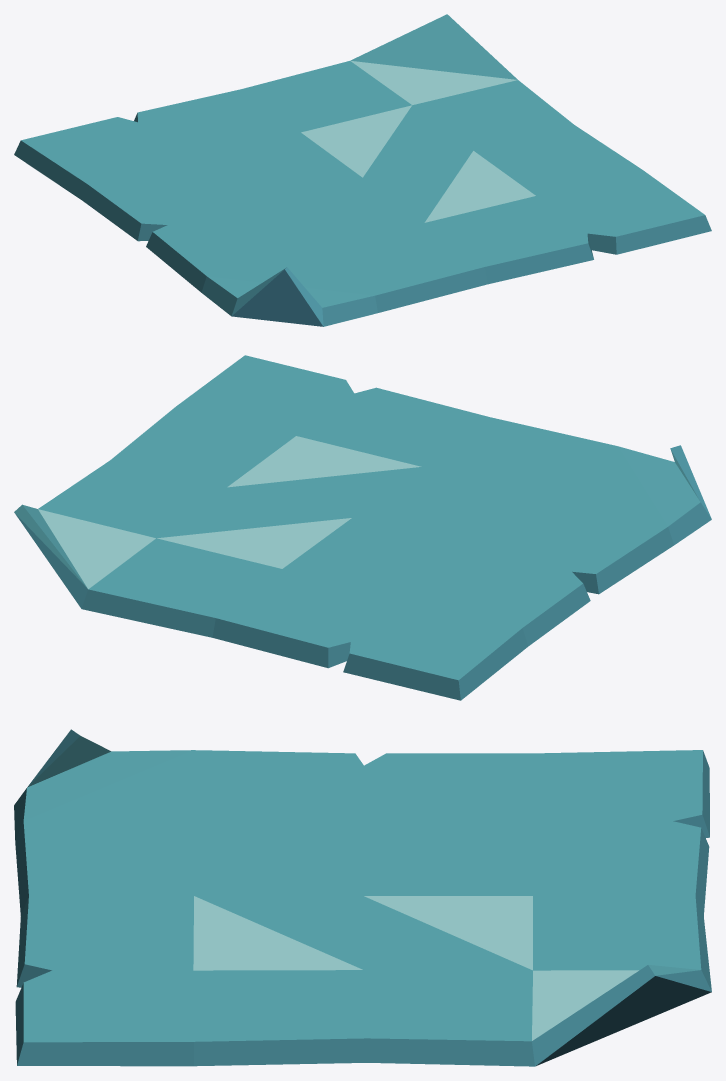
Rendered from itch_kaykit_rpg_tools_blueprint.glb.
The picture shows the model from 3 angles, top to bottom: view 1: azimuth 30°, elevation 25°; view 2: azimuth 150°, elevation 25°; view 3: azimuth 270°, elevation 25°; orthographic projection. The views are drawn at different scales.
Parts seen in each view (by area): view 1: blueprint; view 2: blueprint; view 3: blueprint.
Boxes of the visible parts, x1,y1,x2,y2 form: blueprint: (14, 14, 711, 326); blueprint: (14, 355, 711, 700); blueprint: (14, 729, 711, 1066).
Bounding box in the file's own units: 1.18 × 0.1432 × 1.16.
